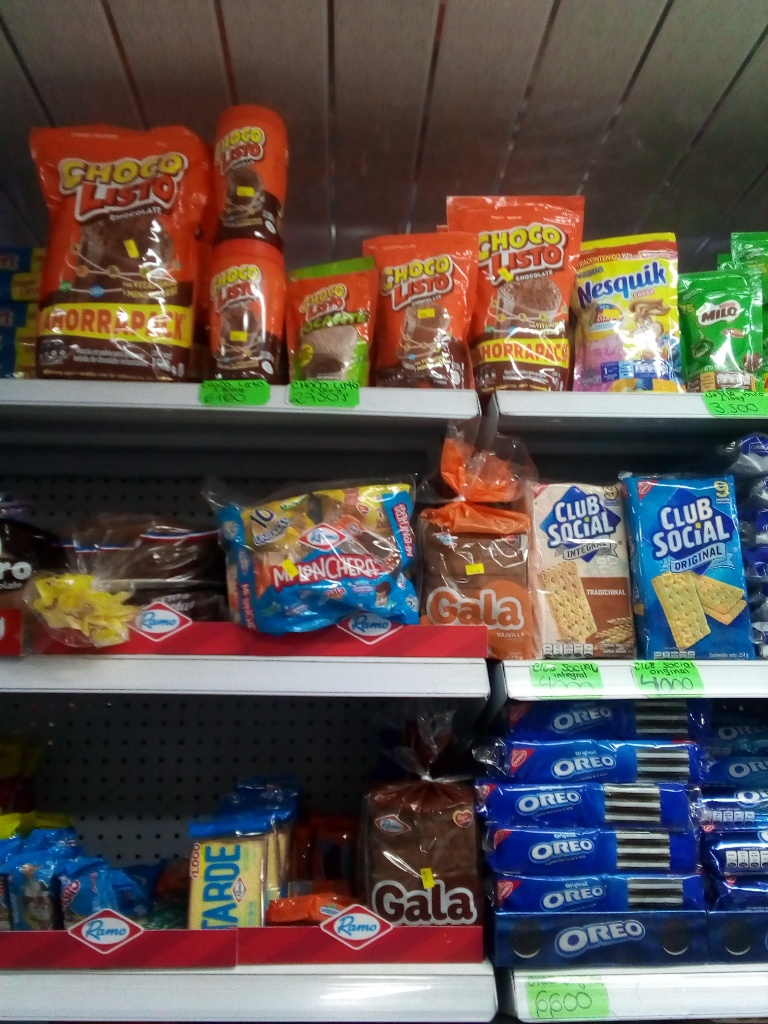COL0170102DYP10000: (286, 256, 378, 388)
COL0170103DYP1,500: (29, 116, 210, 373)
COL0170103DYP20000: (363, 231, 477, 392)
COL0170103DYP44000: (450, 193, 583, 389)
COL0170103TRR30000: (209, 106, 292, 243)
COL0170203DYP10000: (681, 272, 762, 394)
